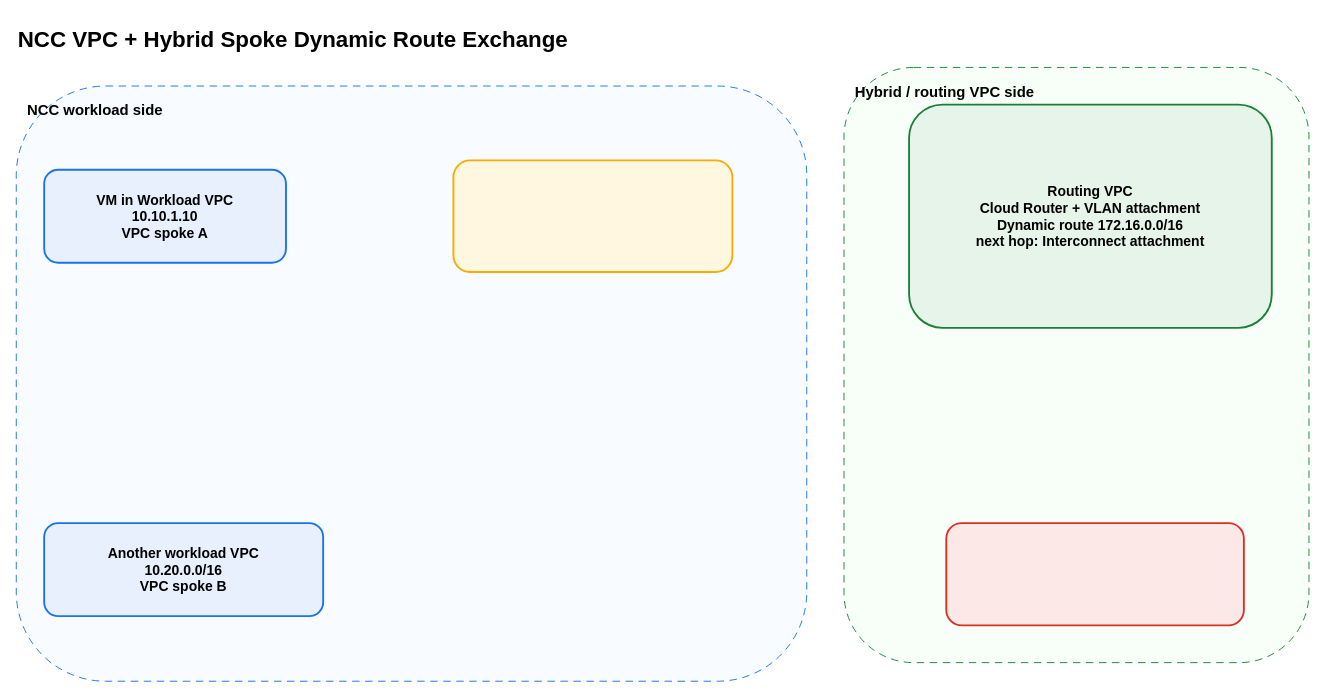
The diagram is 1325 pixels wide and 698 high, and some of its shapes have lost their labels. The centre of each missing label's shape, as x and y in pixels:
"NCC Hub route table 10.10.0.0/16 → VPC spoke A 172.16.0.0/16 → hybrid spoke" belongs at (592,215).
"On-premises 172.16.0.0/16 BGP advertises 172.16.0.0/16" belongs at (1094,574).
